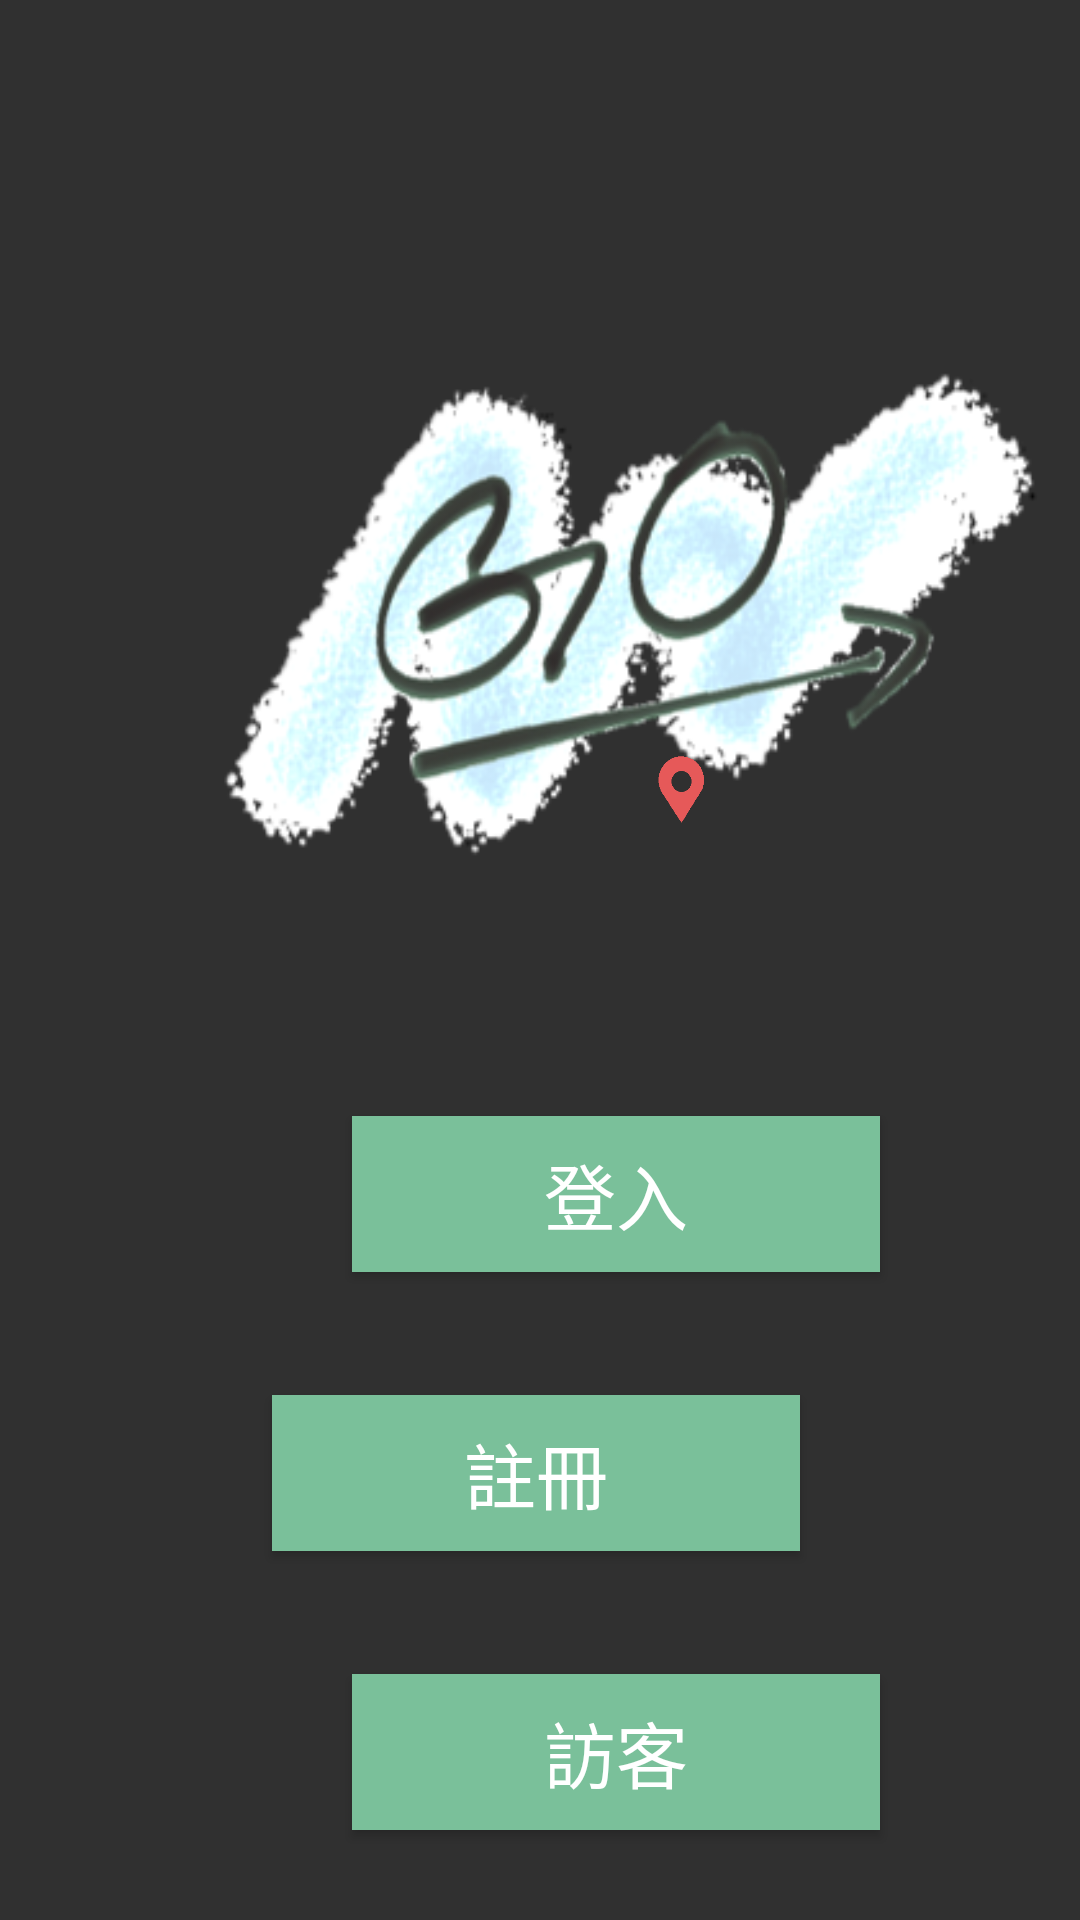

Icon bounding boxes for this 1080*1920 phone screenshot, format (x1, y1, x2, y2):
location: (658, 732, 707, 823)
